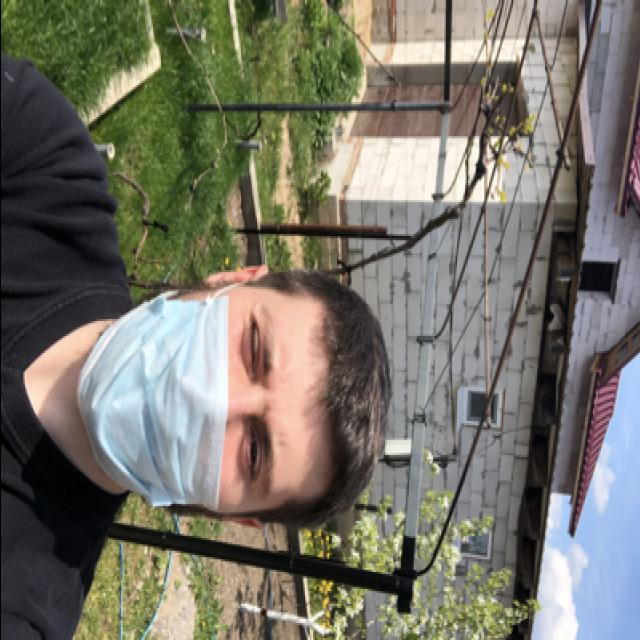with_mask: (77, 285, 304, 521)
